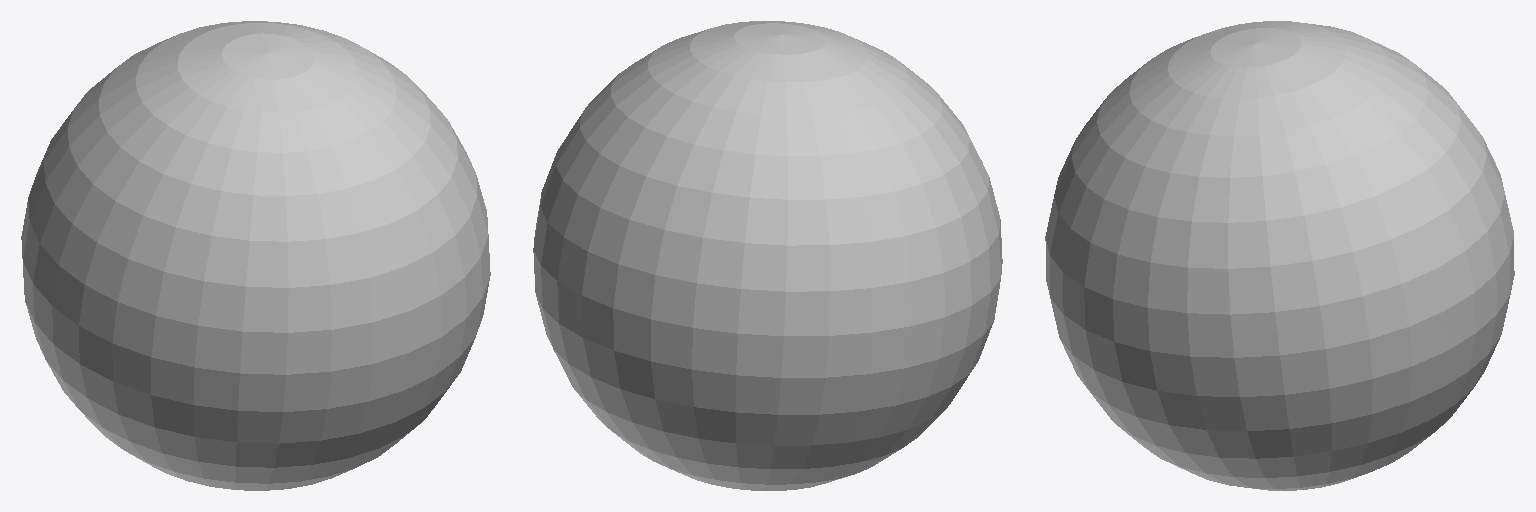
Rendered from Left Knee.obj.
The picture shows the model from 3 angles: view 1: azimuth 30°, elevation 25°; view 2: azimuth 150°, elevation 25°; view 3: azimuth 270°, elevation 25°; orthographic projection.
Parts seen in each view (by area): view 1: Left_Knee_Sphere.015; view 2: Left_Knee_Sphere.015; view 3: Left_Knee_Sphere.015.
Part boxes in pixels (bbox=[...]): Left_Knee_Sphere.015: bbox=[21, 21, 490, 490]; Left_Knee_Sphere.015: bbox=[533, 21, 1002, 490]; Left_Knee_Sphere.015: bbox=[1045, 21, 1514, 490].
Bounding box in the file's own units: 0.7 × 0.6971 × 0.6971.